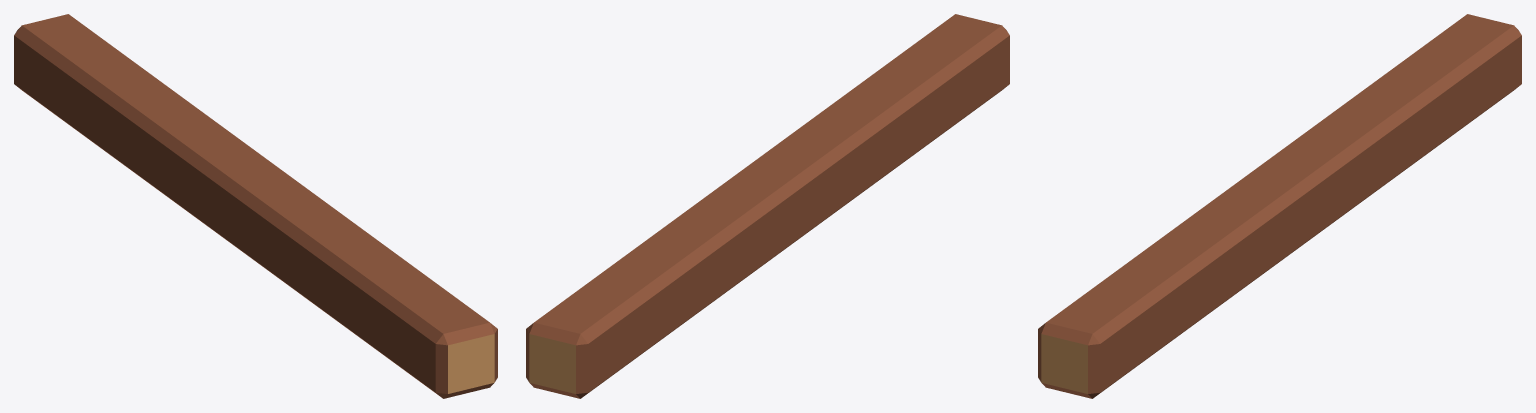
File: Beam.fbx
The picture shows the model from 3 angles, left to right: view 1: azimuth 30°, elevation 25°; view 2: azimuth 150°, elevation 25°; view 3: azimuth 330°, elevation 25°; orthographic projection.
Visible parts, largest first — view 1: Beam; view 2: Beam; view 3: Beam.
Part boxes in pixels (x1,y1,x2,y2): Beam: (14,14,497,398); Beam: (526,14,1009,398); Beam: (1038,14,1521,398).
Size of the model in its own units: 0.1 by 0.1 by 1.2.
